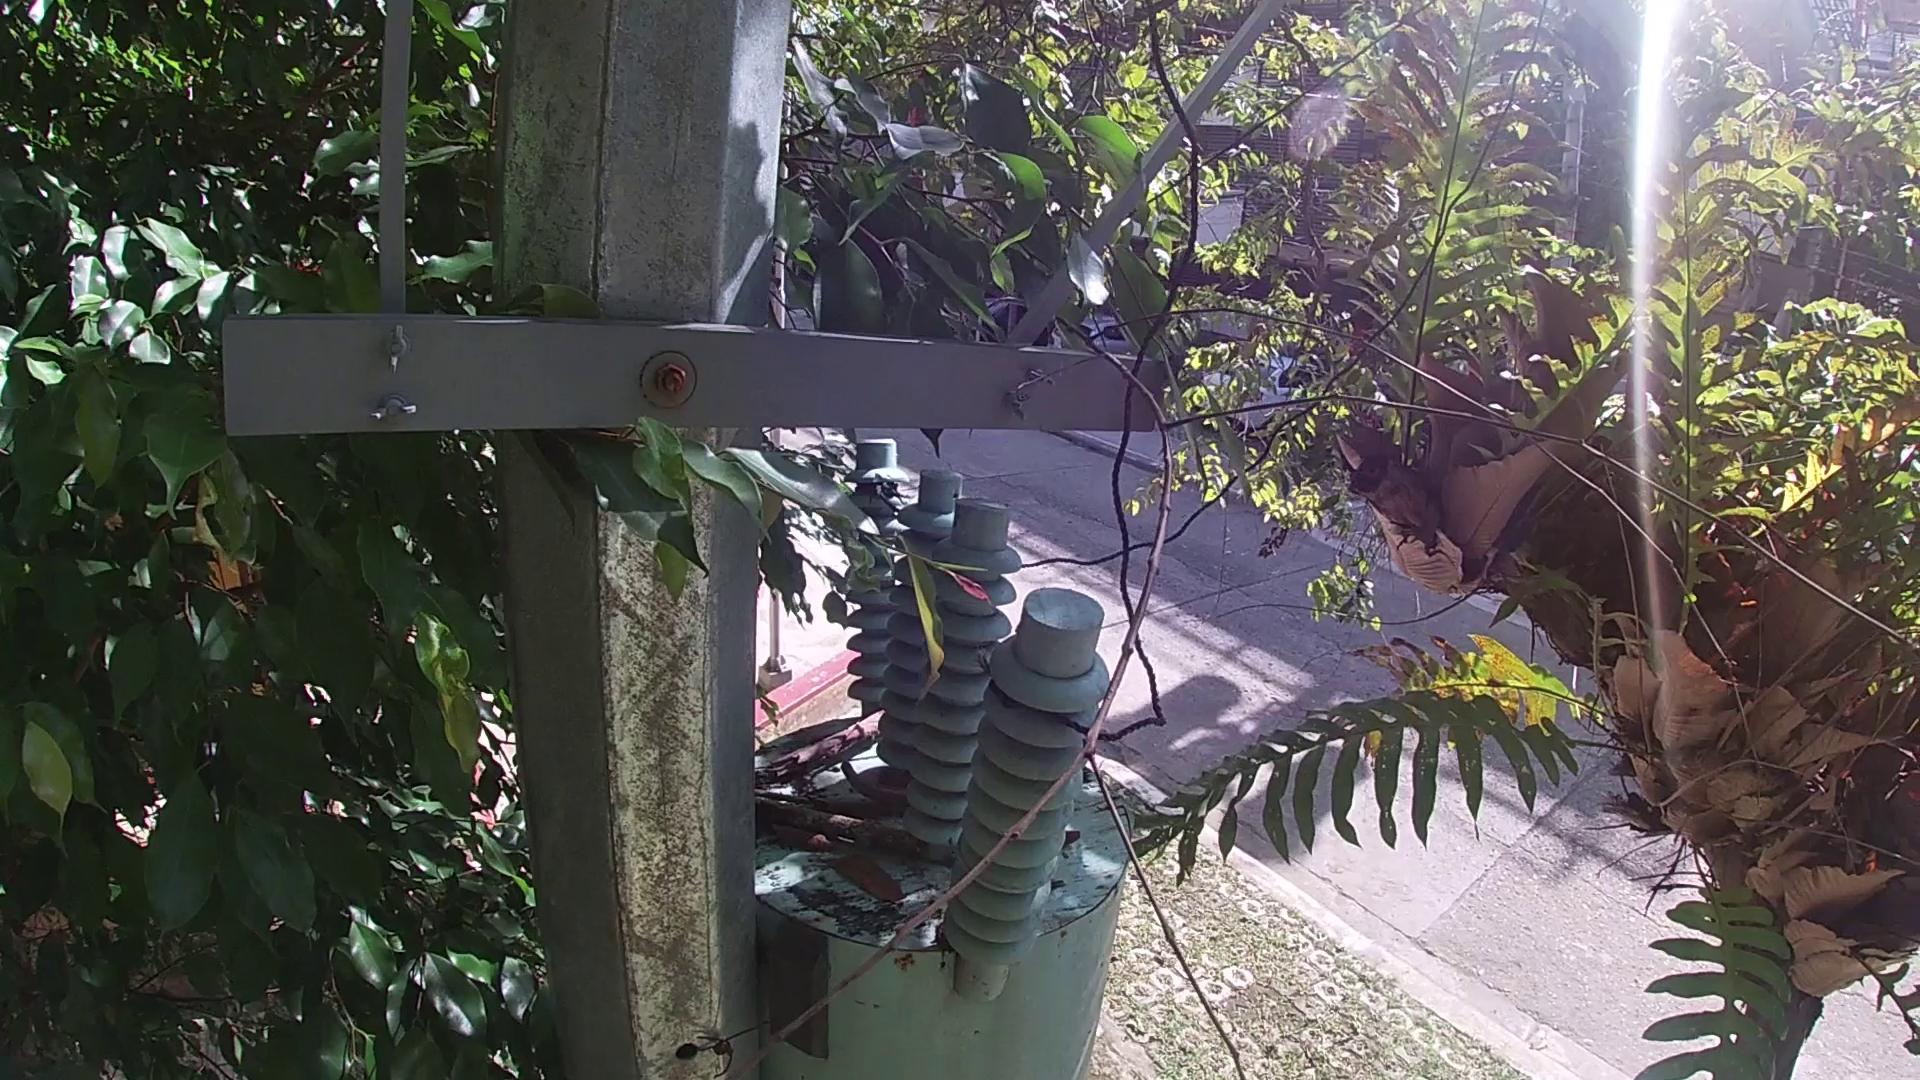leaf: (820, 855, 905, 909), (770, 822, 839, 855), (1063, 827, 1084, 848)
tree branch: (712, 305, 1920, 1076), (754, 795, 960, 866), (767, 708, 886, 795)
